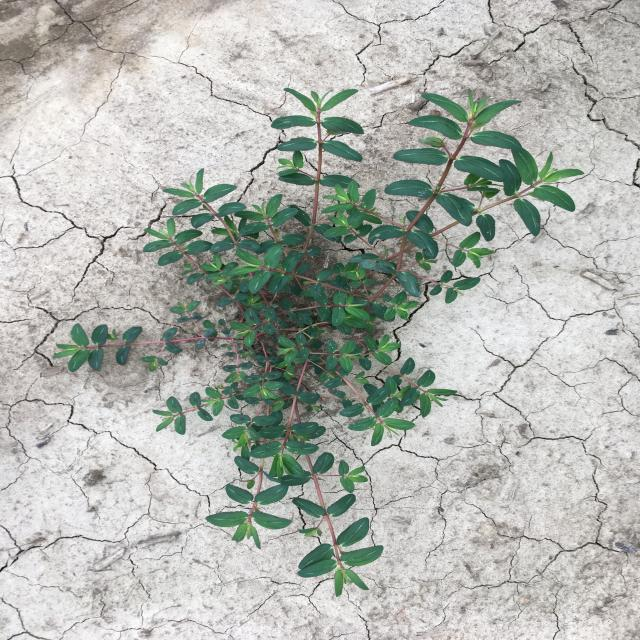SpottedSpurge: (51, 87, 585, 597)
